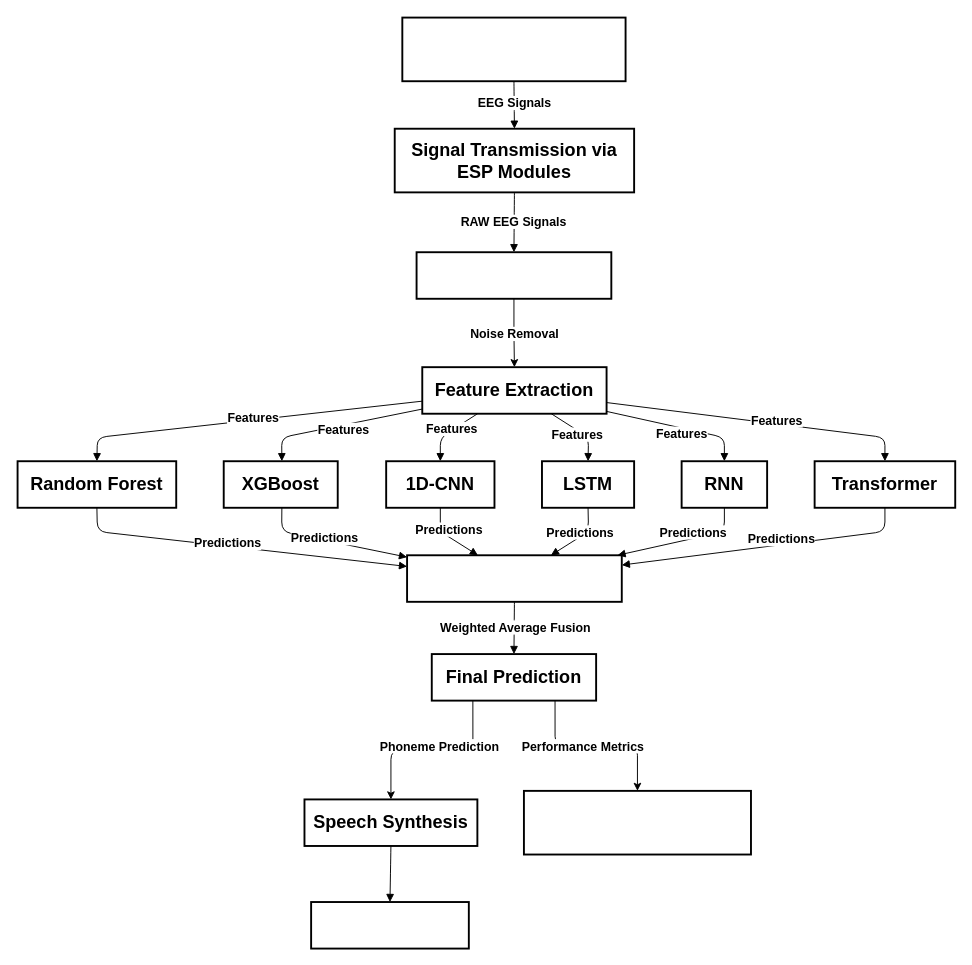
This 972x965 diagram has some shape labels left out. The shapes that lost their labels are listed below. From the top down, each one's centre as x and y in pixels, then its label:
point (513, 49): Signal Acquisition Layer BioAmp EXG Pill
point (513, 275): Signal Preprocessing
point (514, 578): Weighted Fusion Model
point (636, 822): Visualizations: Confusion Matrix, ROC, PR Curves
point (389, 925): Speech Output
